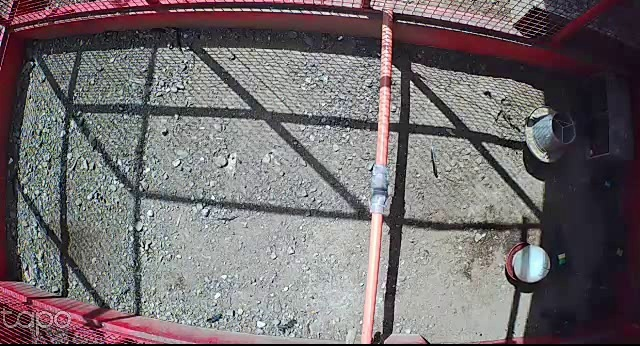Chicken: (541, 224, 582, 282)
Drinker: (504, 242, 550, 282)
Feeder: (525, 106, 577, 165)
Saddle_Color_Yellow: (615, 248, 624, 256)
Saddle_Color_YellowGreen: (557, 253, 567, 264)
